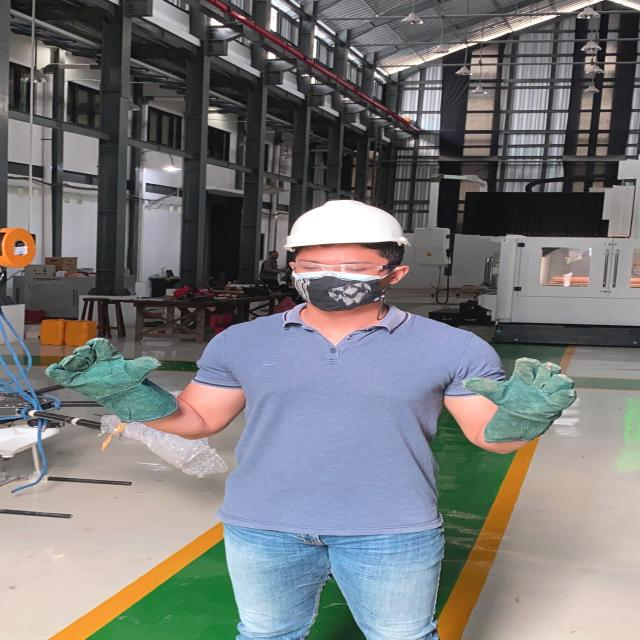face_mask: (291, 251, 396, 308)
glasses: (288, 260, 408, 281)
hand_glove: (464, 356, 590, 428), (44, 335, 164, 403)
head_helmet: (281, 196, 409, 253)
person: (86, 186, 567, 640)
